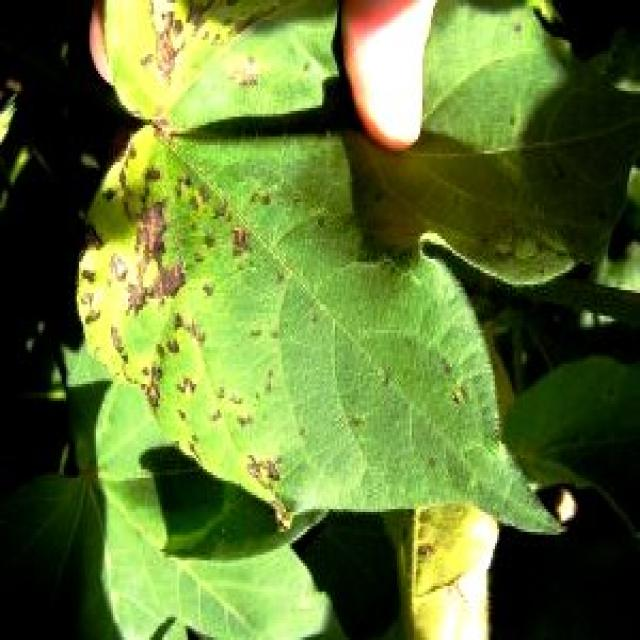Bacterial Blight: (116, 10, 234, 431)
